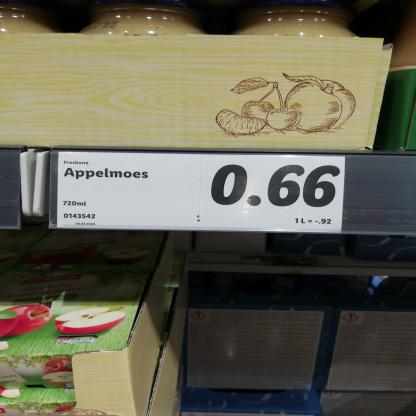prtg: (58, 153, 345, 234)
